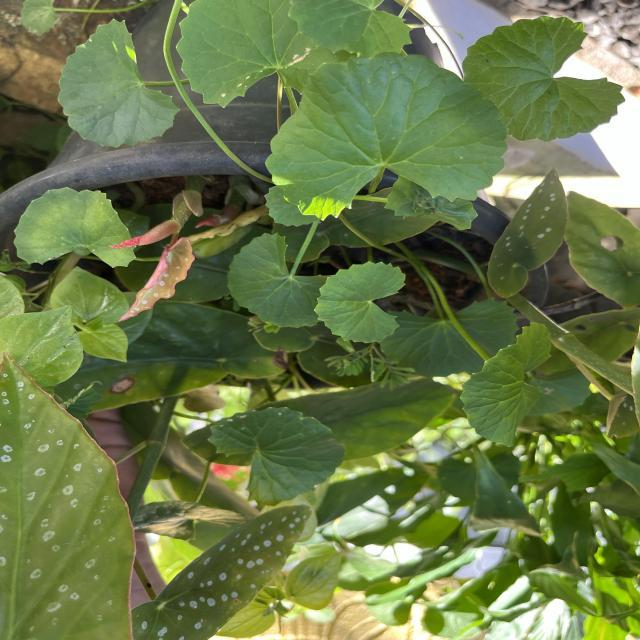Centella asiatica: (262, 49, 509, 226), (459, 11, 630, 146), (54, 16, 183, 150), (456, 320, 555, 450), (225, 230, 338, 330), (11, 184, 140, 270), (312, 258, 408, 346)
